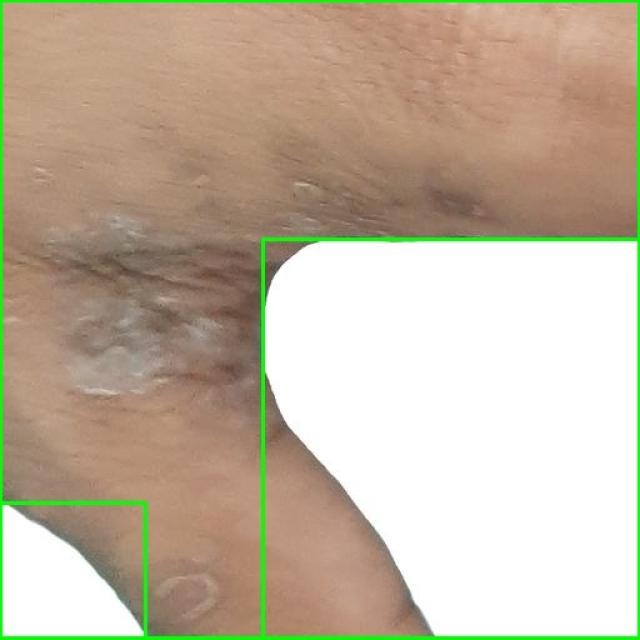Scabies: (0, 0, 639, 639), (262, 239, 639, 639), (0, 502, 146, 639)
